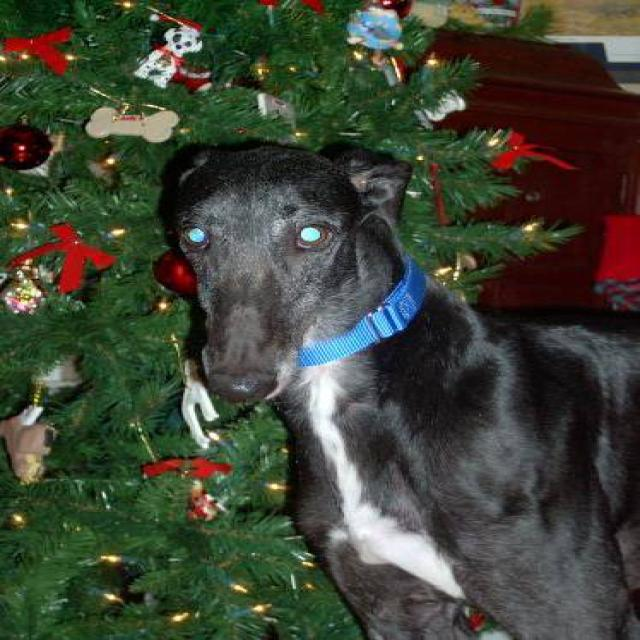dog: (154, 137, 638, 639)
